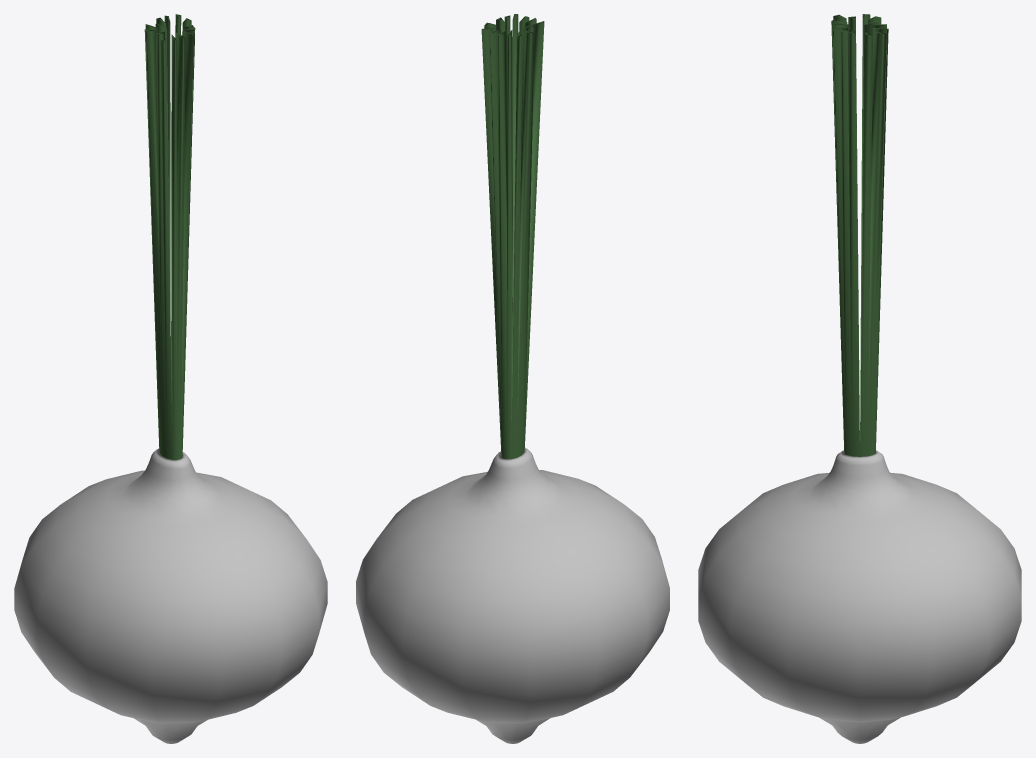
Rendered from Onion (Growing Stage).fbx.
3 renders of one model, left to right at view 1: azimuth 30°, elevation 25°; view 2: azimuth 150°, elevation 25°; view 3: azimuth 270°, elevation 25°, orthographic.
Visible parts, largest first — view 1: Red_Onion_Sprout; view 2: Red_Onion_Sprout; view 3: Red_Onion_Sprout.
Part boxes in pixels (x1,y1,x2,y2): Red_Onion_Sprout: [14, 14, 327, 743]; Red_Onion_Sprout: [356, 14, 669, 743]; Red_Onion_Sprout: [698, 14, 1021, 743].
Size of the model in its own units: 21.51 by 54.82 by 22.37.
